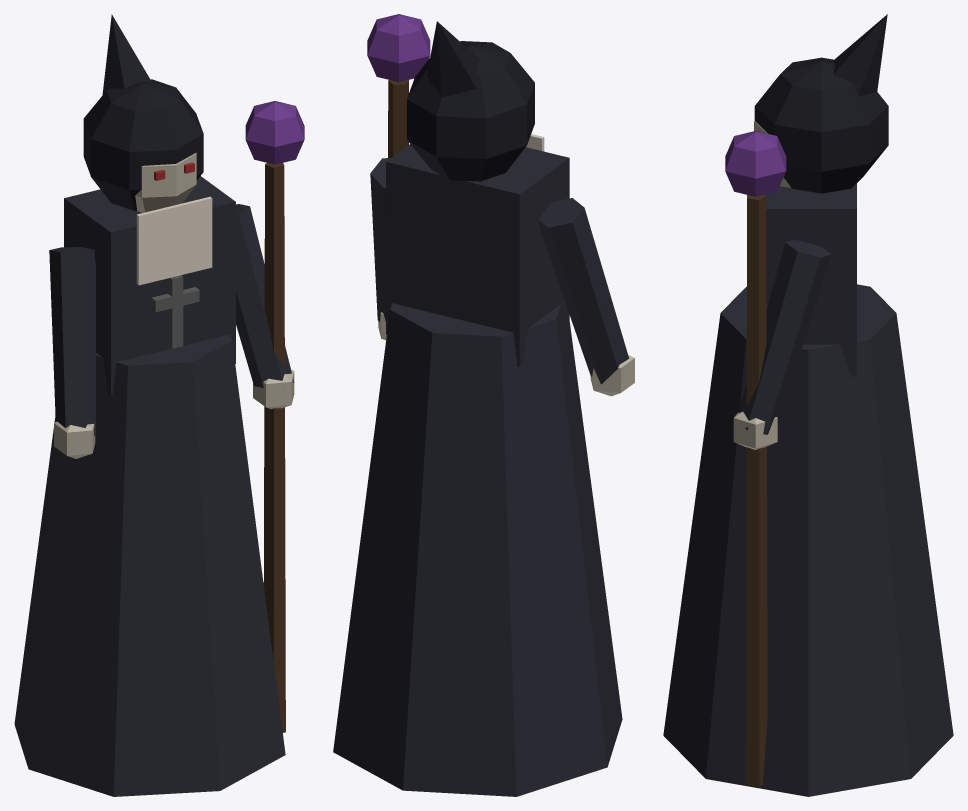
File: gefallene_schwester.glb
3 views of the same model, side by side, from view 1: azimuth 30°, elevation 25°; view 2: azimuth 150°, elevation 25°; view 3: azimuth 270°, elevation 25° (orthographic). The views are drawn at different scales.
Size of the model in its own units: 0.68 by 1.81 by 0.66.
Materials: 1 (1 with a texture image).
